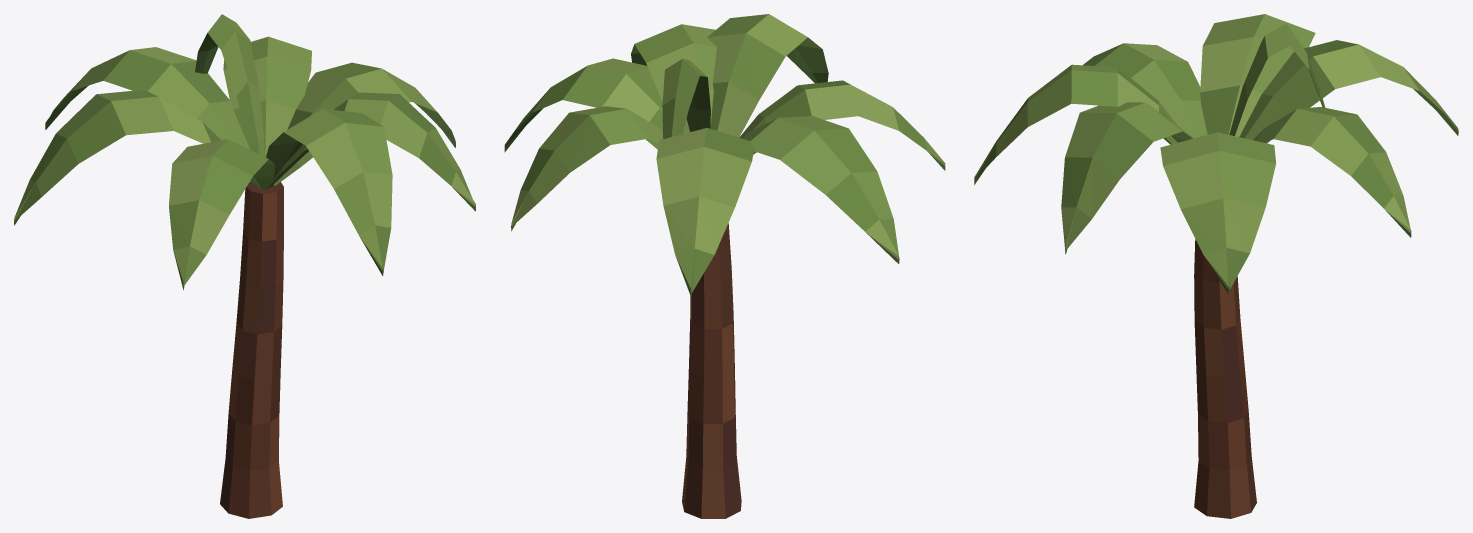
Rendered from t04_young_palm.glb.
3 renders of one model, left to right at view 1: azimuth 30°, elevation 25°; view 2: azimuth 150°, elevation 25°; view 3: azimuth 270°, elevation 25°, orthographic. The views are drawn at different scales.
Parts seen in each view (by area): view 1: T04_palm; view 2: T04_palm; view 3: T04_palm.
Part boxes in pixels (box(x1,y1,x2,y2)): T04_palm: box(14, 14, 475, 518); T04_palm: box(504, 14, 945, 518); T04_palm: box(974, 14, 1458, 518).
Size of the model in its own units: 1.81 by 1.94 by 1.77.
